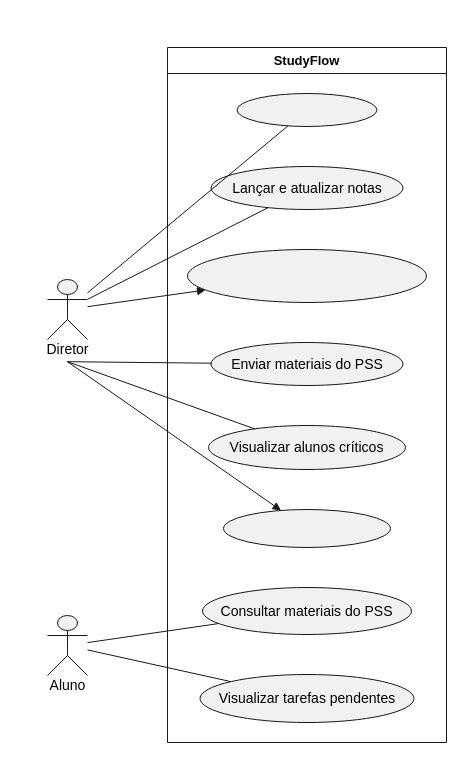
The diagram is 464 pixels wide and 760 high, and some of its shapes have lost their labels. The box of each missing label's shape, as (x1, y1, x2, y2) in pixels:
Cadastrar aluno: (236, 92, 377, 126)
Cadastrar disciplinas: (222, 508, 390, 548)
Publicar cronograma de reforço: (186, 248, 426, 302)
